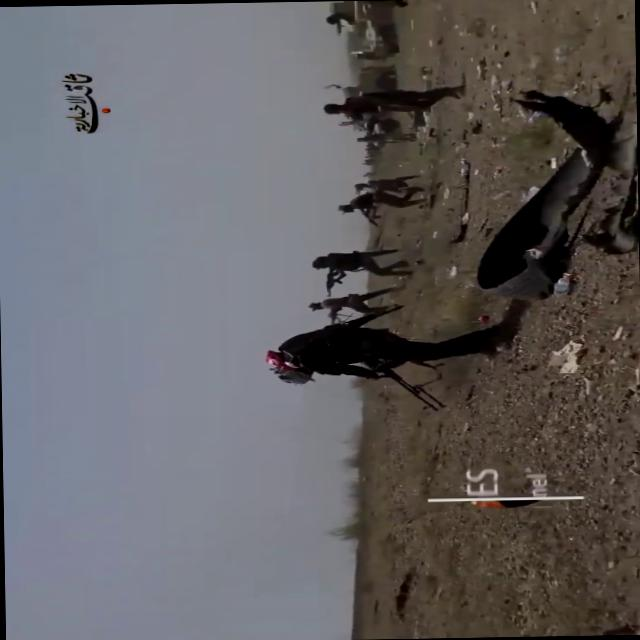long weapon: (356, 356, 460, 419)
